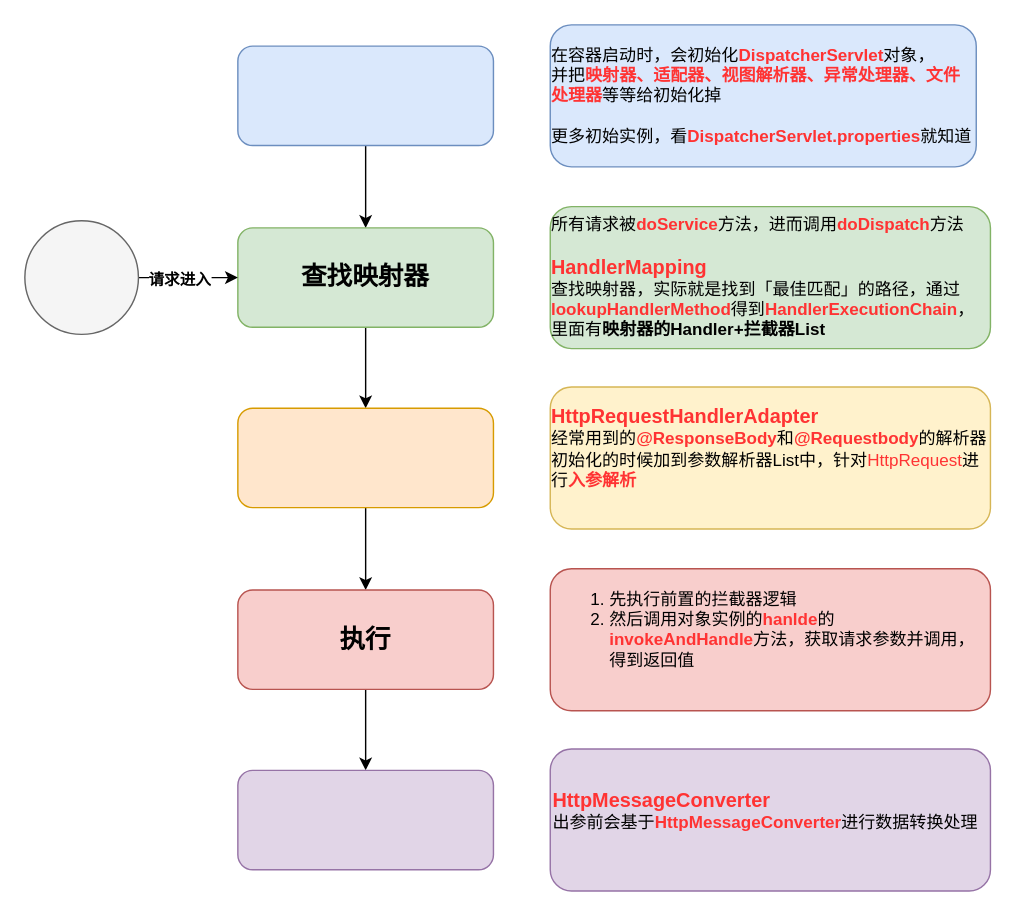
This 1015x916 diagram has some shape labels left out. The box of each missing label's shape, as (x1, y1, x2, y2) in pixels:
入参适配器: (236, 407, 493, 508)
视图解析器: (236, 769, 493, 870)
请求入口初始化: (236, 45, 493, 146)
